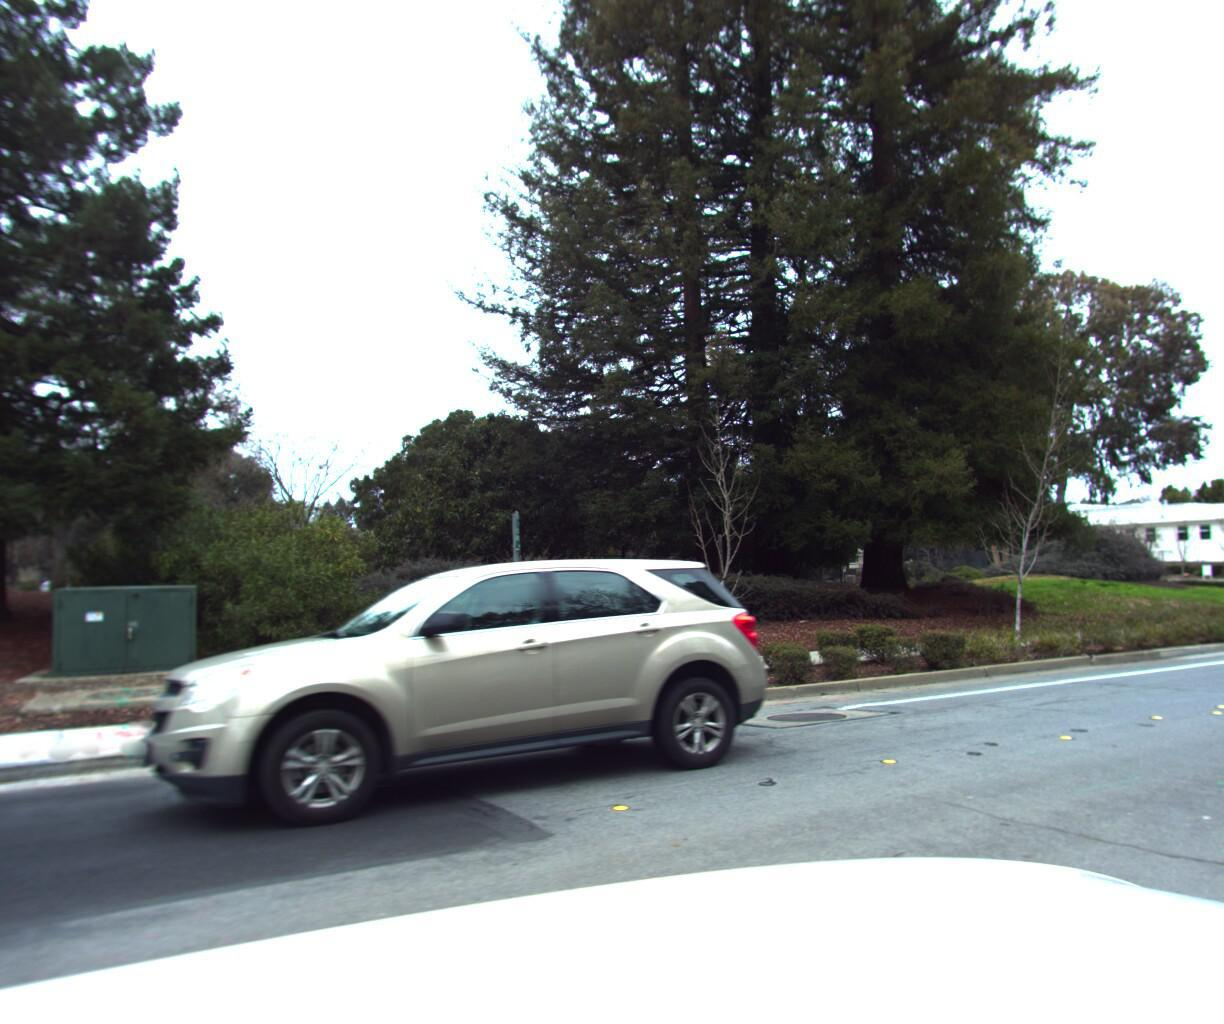car: (103, 539, 797, 910)
